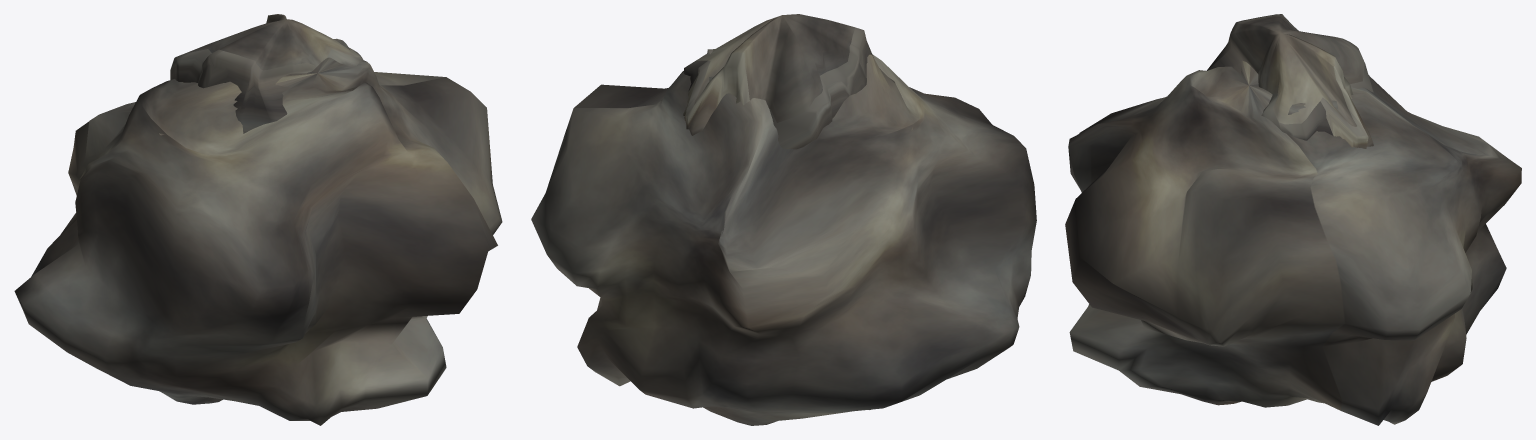
The model's file is rock5_hugeOne.fbx.
3 views of the same model, side by side, from view 1: azimuth 30°, elevation 25°; view 2: azimuth 150°, elevation 25°; view 3: azimuth 270°, elevation 25° (orthographic). The views are drawn at different scales.
Parts seen in each view (by area): view 1: polySurface3; view 2: polySurface3; view 3: polySurface3.
Part boxes in pixels (x1,y1,x2,y2): polySurface3: (14,14,502,425); polySurface3: (531,14,1036,425); polySurface3: (1065,14,1521,425).
Bounding box in the file's own units: 3273 × 2638 × 2960.
